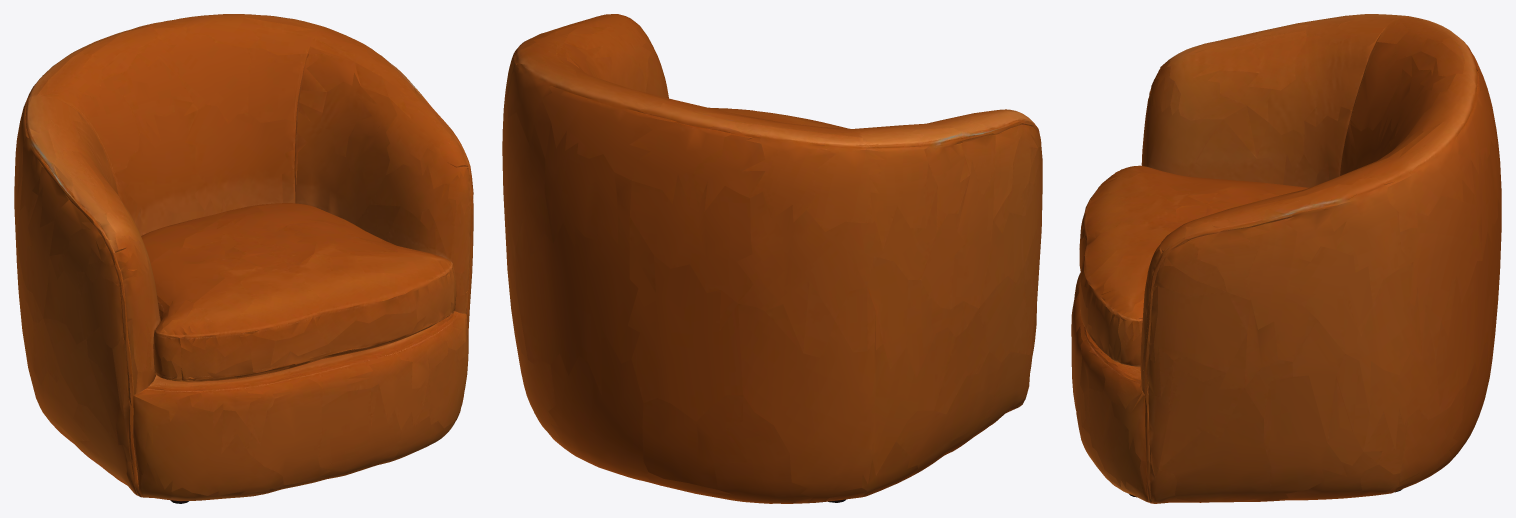
File: lounge_chair.glb
3 renders of one model, left to right at view 1: azimuth 30°, elevation 25°; view 2: azimuth 150°, elevation 25°; view 3: azimuth 270°, elevation 25°, orthographic. The views are drawn at different scales.
Parts seen in each view (by area): view 1: 0; view 2: 0; view 3: 0.
Part boxes in pixels (x1=…): 0: x1=14, y1=14, x2=473, y2=503; 0: x1=502, y1=14, x2=1042, y2=503; 0: x1=1071, y1=14, x2=1501, y2=503.
Size of the model in its own units: 0.8 by 0.6661 by 0.7307.
1 material, 1 textured.
